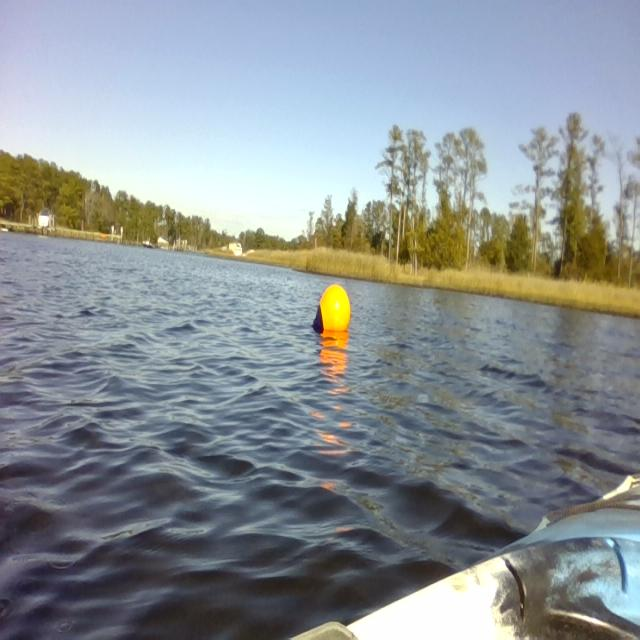Buoy: (309, 278, 355, 344)
